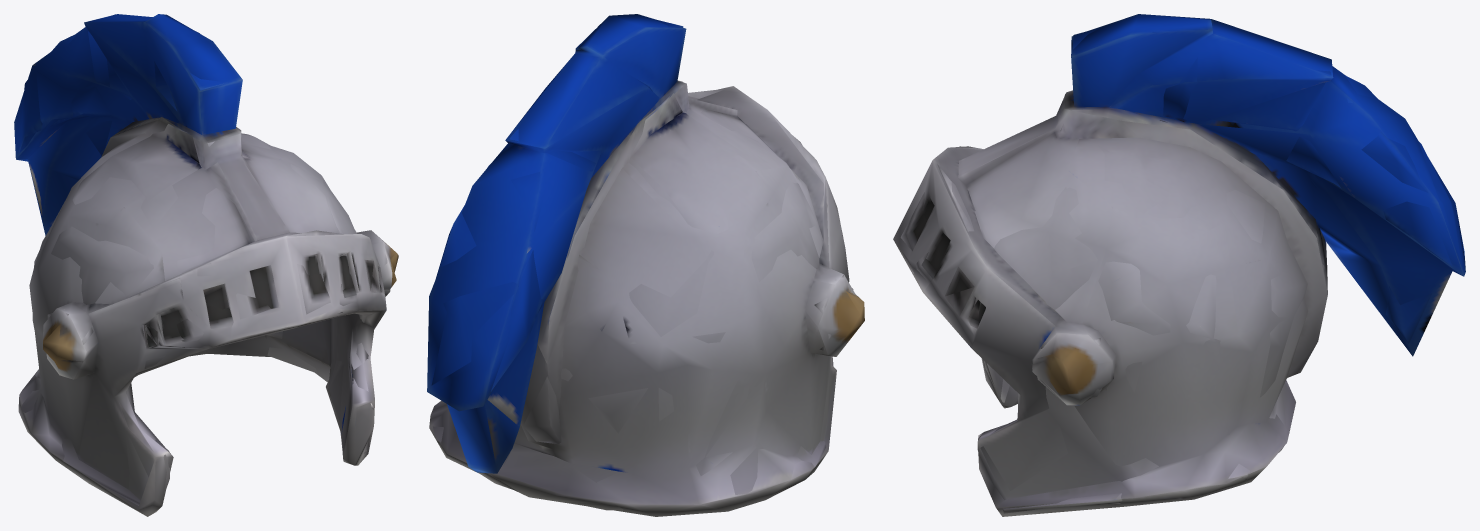
Rendered from knight-helmet.glb.
The picture shows the model from 3 angles, left to right: view 1: azimuth 30°, elevation 25°; view 2: azimuth 150°, elevation 25°; view 3: azimuth 270°, elevation 25°; orthographic projection. The views are drawn at different scales.
Parts seen in each view (by area): view 1: knight-helmet; view 2: knight-helmet; view 3: knight-helmet.
Boxes of the visible parts, x1,y1,x2,y2 form: knight-helmet: (14, 14, 398, 516); knight-helmet: (427, 14, 864, 516); knight-helmet: (893, 14, 1465, 516).
Bounding box in the file's own units: 0.7683 × 0.8491 × 0.9969.
1 material, 1 textured.
